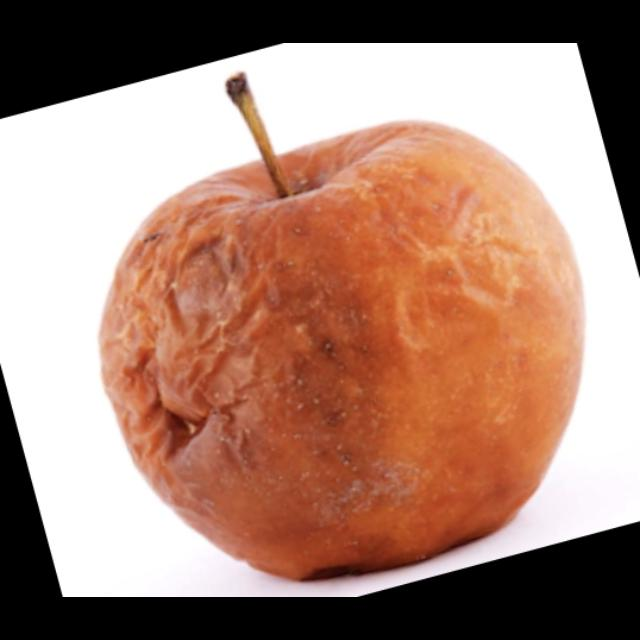Apel Tidak Segar: (89, 109, 592, 586)
